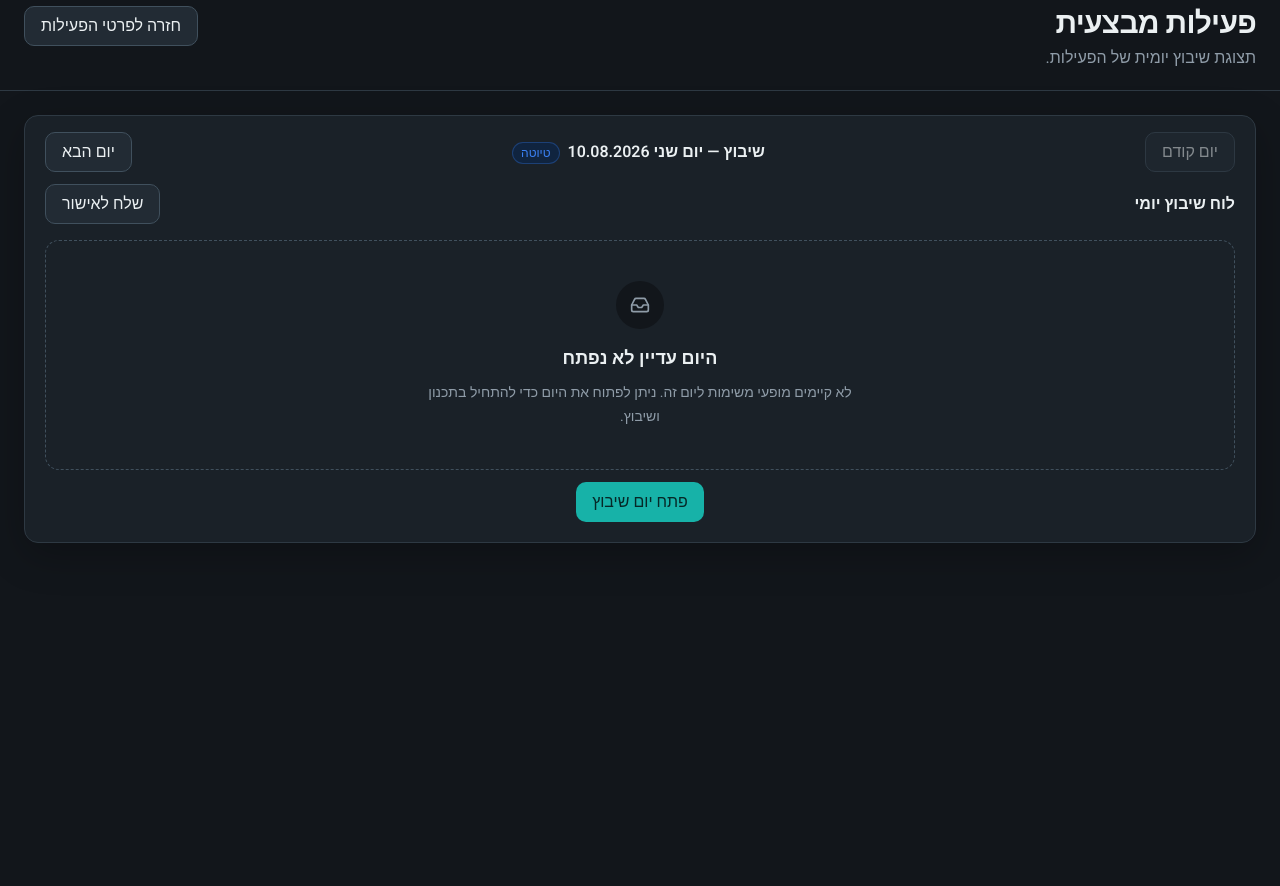
Test: ActivityPlanningPage › keeps the paginated company users query and renders compact assignment selectors
The width and height of the screenshot is (1280, 886).
Click the button "יום הבא" at (88, 152), box [45, 132, 132, 172]
(page scrolled)
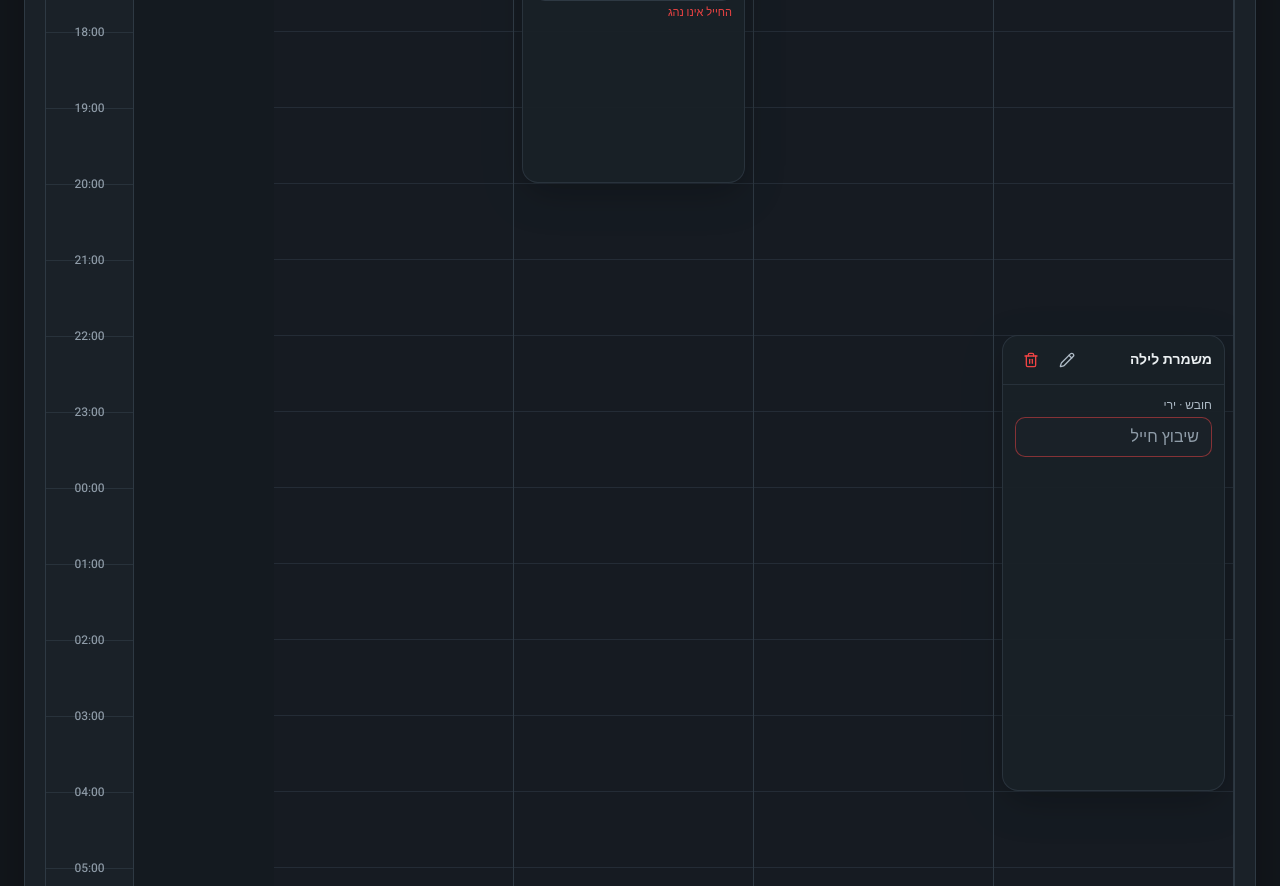
Check: the field labelled "שיבוץ חייל" is shown, box [1015, 416, 1212, 456]
